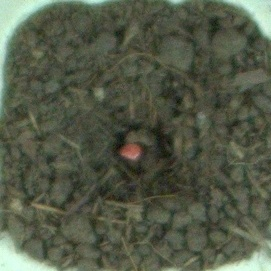chilli seed: (117, 142, 145, 162)
